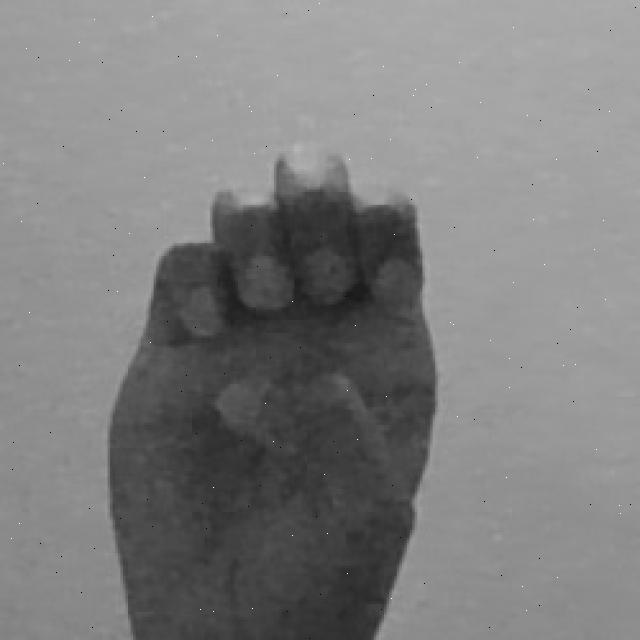E: (106, 146, 441, 640)
